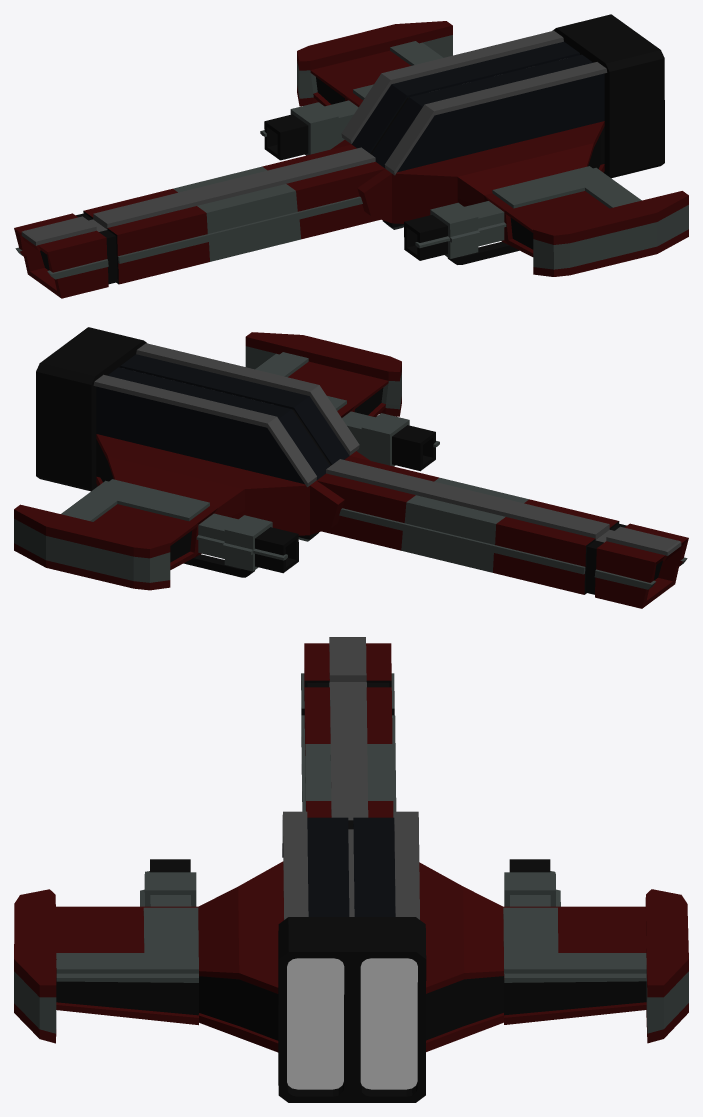
The model's file is spaceship.obj.
3 renders of one model, top to bottom at view 1: azimuth 30°, elevation 25°; view 2: azimuth 150°, elevation 25°; view 3: azimuth 270°, elevation 25°, orthographic. The views are drawn at different scales.
Parts seen in each view (by area): view 1: Cube; view 2: Cube; view 3: Cube.
Boxes of the visible parts, bbox=[...] form: Cube: bbox=[14, 14, 688, 298]; Cube: bbox=[14, 327, 688, 608]; Cube: bbox=[14, 637, 688, 1102].
Bounding box in the file's own units: 23.36 × 4.55 × 17.24.
